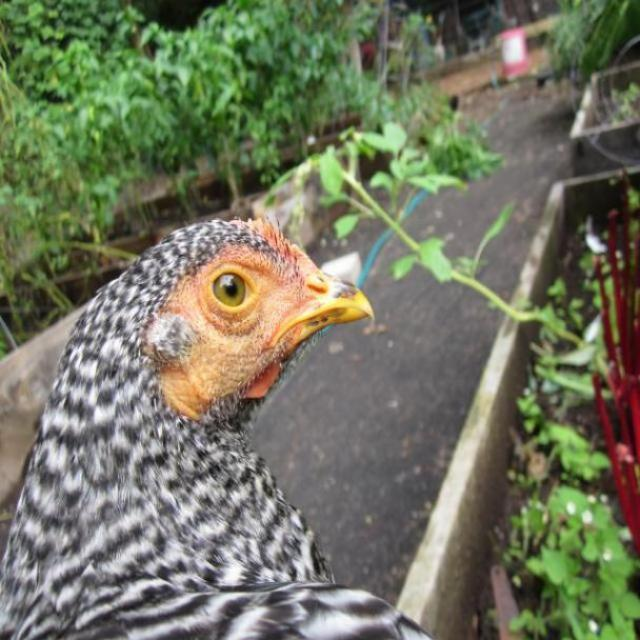Chicken: (2, 219, 432, 637)
